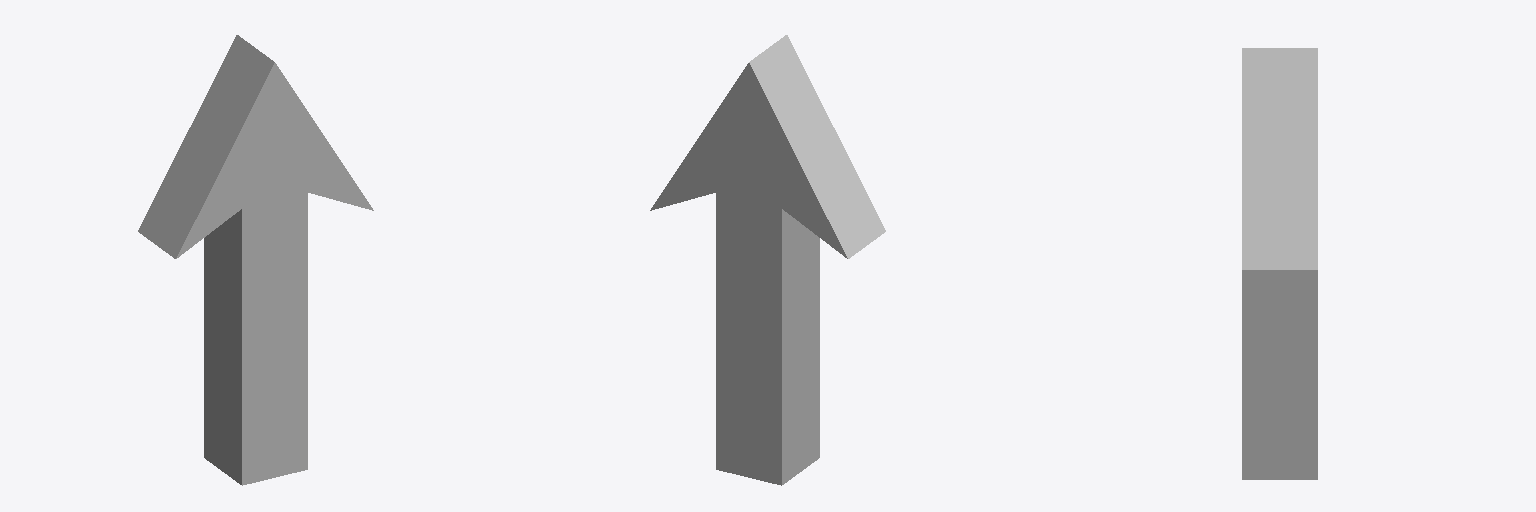
The model's file is pointing arrow.obj.
The picture shows the model from 3 angles: view 1: azimuth 30°, elevation 25°; view 2: azimuth 150°, elevation 25°; view 3: azimuth 270°, elevation 25°; orthographic projection.
Parts seen in each view (by area): view 1: Cube; view 2: Cube; view 3: Cube.
Part boxes in pixels (x1,y1,x2,y2): Cube: (138, 35, 373, 485); Cube: (650, 35, 885, 485); Cube: (1242, 48, 1317, 479).
Bounding box in the file's own units: 6 × 12 × 2.